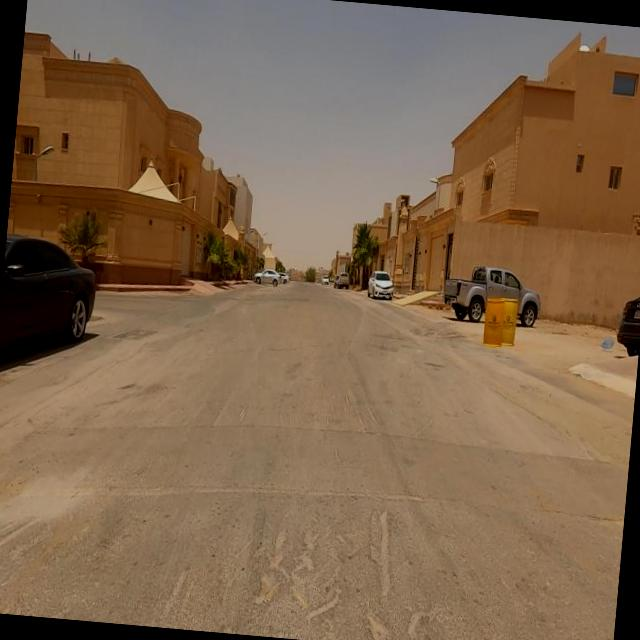debris: (586, 302, 628, 392)
